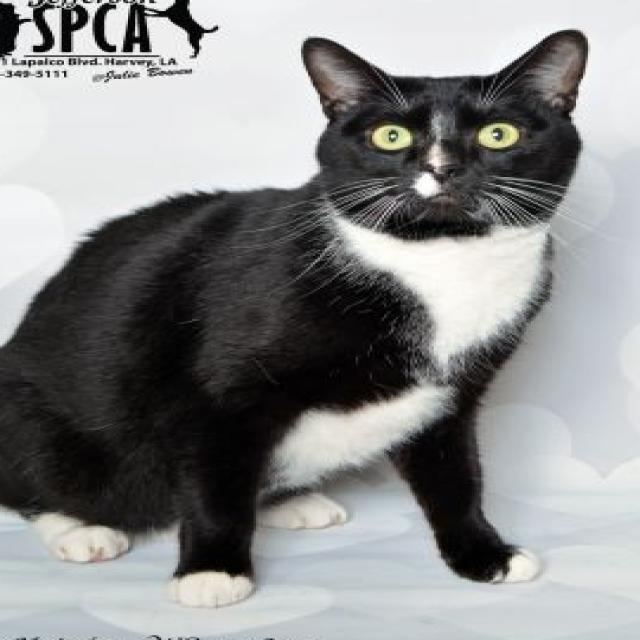Tuxedo: (0, 22, 593, 612)
